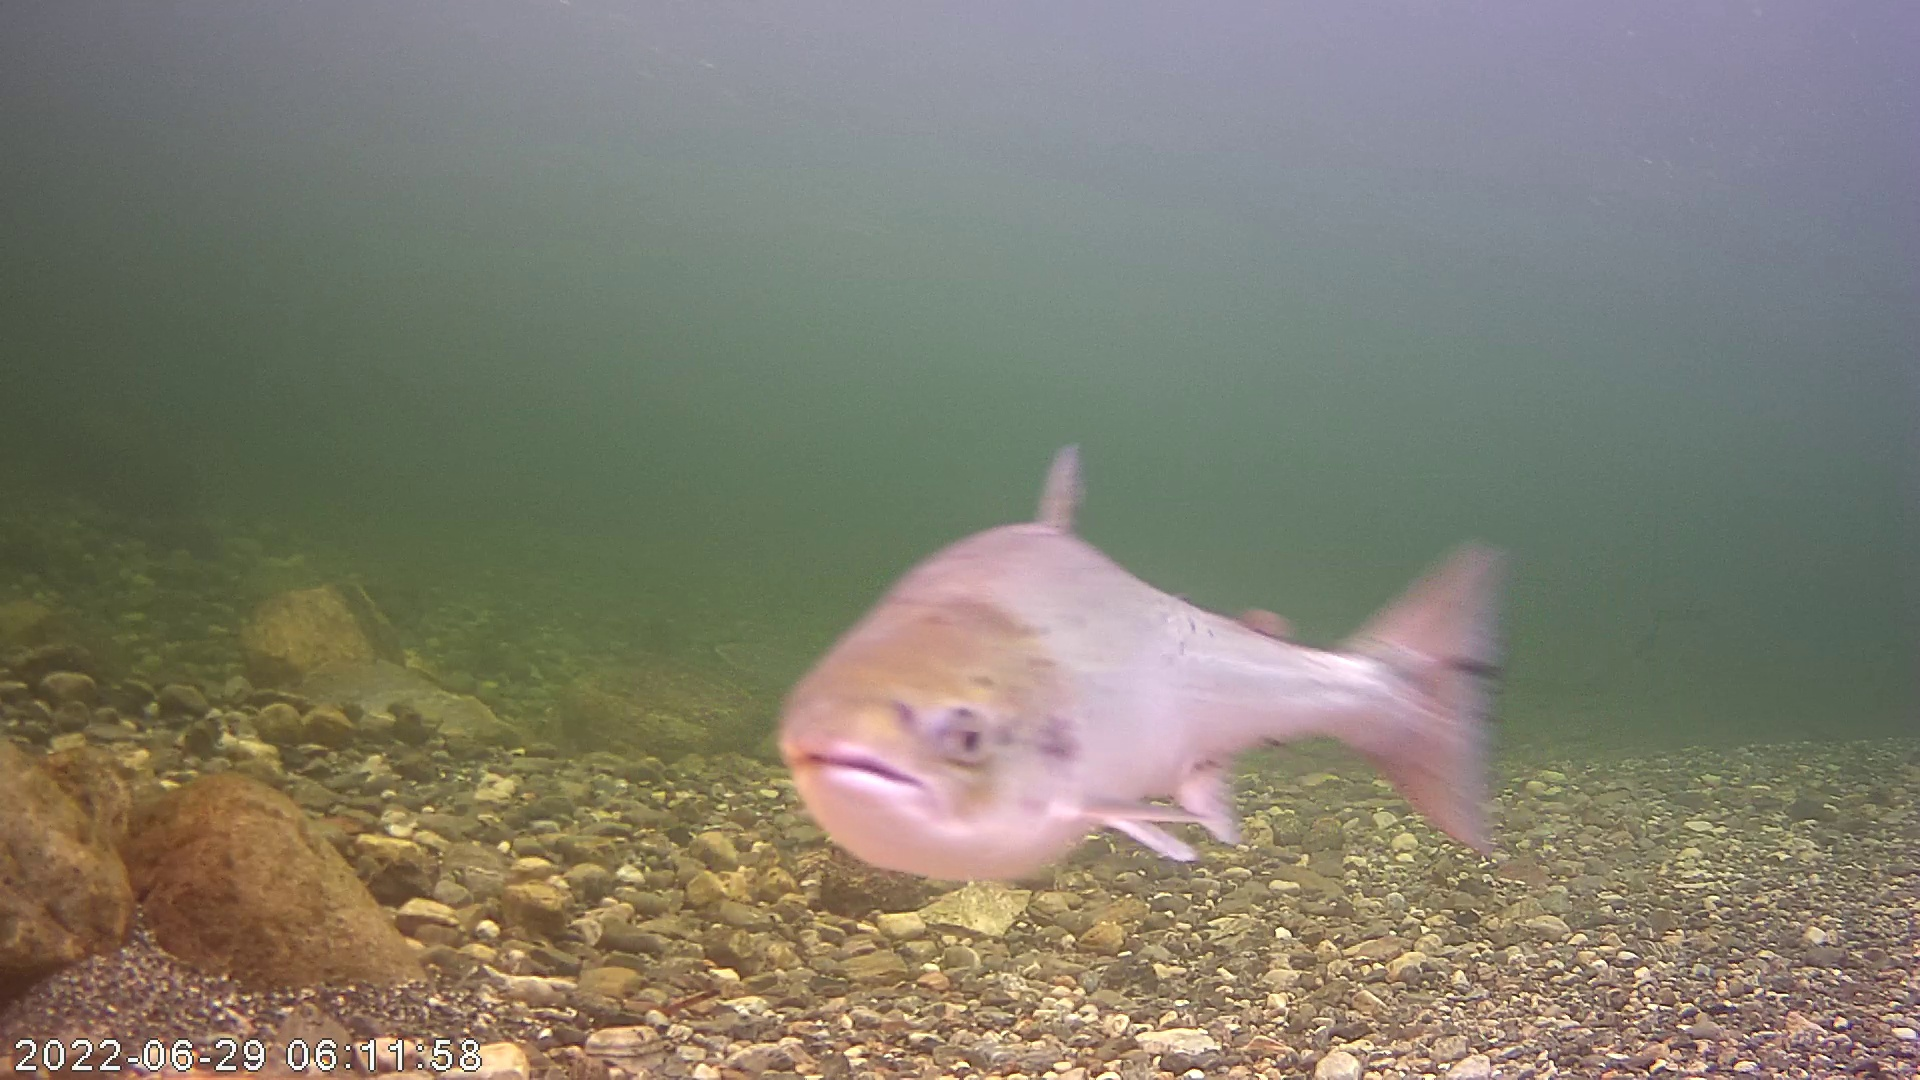salmon: (758, 442, 1528, 903)
